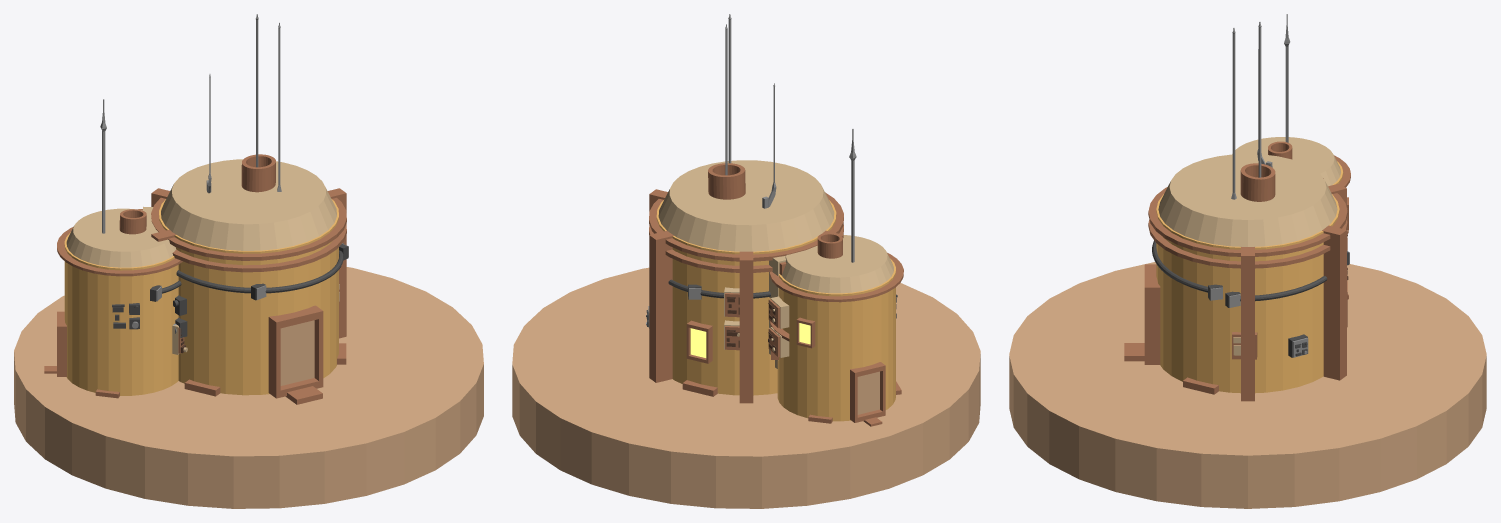
The model's file is nomad_building_04.fbx.
3 renders of one model, left to right at view 1: azimuth 30°, elevation 25°; view 2: azimuth 150°, elevation 25°; view 3: azimuth 270°, elevation 25°, orthographic.
Parts seen in each view (by area): view 1: B04_M_Foundation_foundation, B04_M_Drum0, B04_A1_Drum0, B04_M_Crown_TowerBody_RoofCap, B04_A1_Crown_TowerBody_RoofCap, B04_M_Door_Door_Frame, B04_M_Door_Door_Leaf, B04_M_Ring00_TowerTrim_BandThin, B04_M_Ring01_TowerTrim_BandThin, B04_M_Stack0_TowerBody_StackWide, B04_A1_Ring00_TowerTrim_BandThin, B04_M_Pipe2 (+3 smaller); view 2: B04_M_Foundation_foundation, B04_A1_Drum0, B04_M_Crown_TowerBody_RoofCap, B04_M_Drum0, B04_A1_Crown_TowerBody_RoofCap, B04_M_Pilaster2_TowerTrim_Pilaster, B04_M_Pilaster3_TowerTrim_Pilaster, B04_M_Ring00_TowerTrim_BandThin, B04_M_Stack0_TowerBody_StackWide, B04_A1_Ring00_TowerTrim_BandThin, B04_A1_Door_Door_Frame, B04_A1_Door_Door_Leaf (+5 smaller); view 3: B04_M_Foundation_foundation, B04_M_Drum0, B04_M_Crown_TowerBody_RoofCap, B04_M_Pilaster2_TowerTrim_Pilaster, B04_M_Pilaster1_TowerTrim_Pilaster, B04_M_Ring00_TowerTrim_BandThin, B04_A1_Crown_TowerBody_RoofCap, B04_M_Door_Door_Frame, B04_M_Ring01_TowerTrim_BandThin, B04_M_Stack0_TowerBody_StackWide, B04_M_Mast0_AntennaMast_Thin, B04_M_Mast1_AntennaMast_Thin.
Boxes of the visible parts, x1,y1,x2,y2 form: B04_M_Foundation_foundation: (14,267,483,508); B04_M_Drum0: (159,199,338,395); B04_A1_Drum0: (64,232,178,395); B04_M_Crown_TowerBody_RoofCap: (161,159,336,250); B04_A1_Crown_TowerBody_RoofCap: (66,208,176,267); B04_M_Door_Door_Frame: (268,305,323,398); B04_M_Door_Door_Leaf: (280,320,314,385); B04_M_Ring00_TowerTrim_BandThin: (151,197,346,260); B04_M_Ring01_TowerTrim_BandThin: (172,224,346,272); B04_M_Stack0_TowerBody_StackWide: (241,154,275,192); B04_A1_Ring00_TowerTrim_BandThin: (57,227,182,276); B04_M_Pipe2: (176,250,343,293); B04_M_Foundation_foundation: (512,267,980,508); B04_A1_Drum0: (777,258,895,421); B04_M_Crown_TowerBody_RoofCap: (658,160,834,251); B04_M_Drum0: (656,200,836,395); B04_A1_Crown_TowerBody_RoofCap: (781,234,893,293); B04_M_Pilaster2_TowerTrim_Pilaster: (649,230,673,382); B04_M_Pilaster3_TowerTrim_Pilaster: (739,251,753,403); B04_M_Ring00_TowerTrim_BandThin: (649,192,843,261); B04_M_Stack0_TowerBody_StackWide: (708,163,745,199); B04_A1_Ring00_TowerTrim_BandThin: (769,252,903,302); B04_A1_Door_Door_Frame: (850,362,885,422); B04_A1_Door_Door_Leaf: (857,371,879,414); B04_M_Foundation_foundation: (1009,262,1486,508); B04_M_Drum0: (1156,194,1339,393); B04_M_Crown_TowerBody_RoofCap: (1158,153,1337,246); B04_M_Pilaster2_TowerTrim_Pilaster: (1322,225,1346,380); B04_M_Pilaster1_TowerTrim_Pilaster: (1241,247,1254,401); B04_M_Ring00_TowerTrim_BandThin: (1148,187,1347,256); B04_A1_Crown_TowerBody_RoofCap: (1235,137,1340,186); B04_M_Door_Door_Frame: (1144,264,1160,364); B04_M_Ring01_TowerTrim_BandThin: (1148,220,1347,268); B04_M_Stack0_TowerBody_StackWide: (1240,163,1275,201); B04_M_Mast0_AntennaMast_Thin: (1231,28,1236,199); B04_M_Mast1_AntennaMast_Thin: (1258,22,1261,177).
Size of the model in its own units: 423 by 384 by 423.
